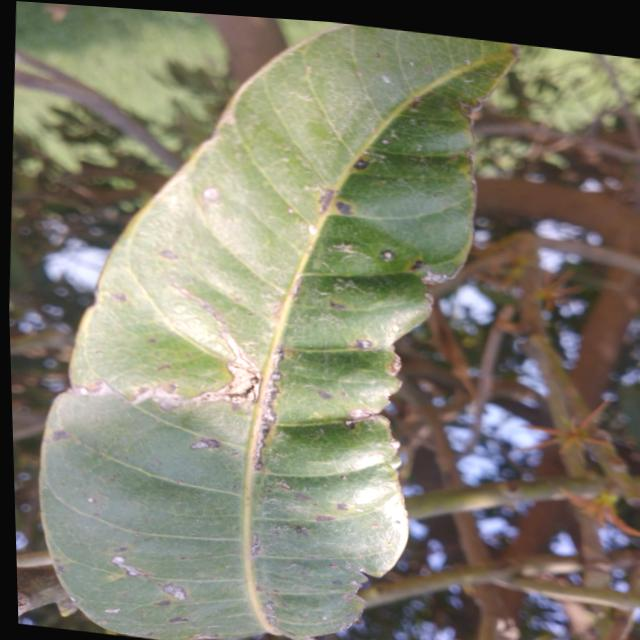Powdery Mildew: (132, 282, 284, 440), (253, 345, 284, 471), (109, 551, 142, 580), (226, 366, 255, 396), (159, 578, 189, 602), (313, 185, 337, 214), (332, 196, 354, 218), (201, 185, 221, 205), (158, 246, 179, 262), (189, 438, 219, 449), (292, 522, 311, 537), (250, 533, 261, 558), (51, 428, 69, 441), (314, 388, 331, 401), (108, 289, 126, 301), (353, 338, 372, 349), (314, 513, 334, 523), (379, 249, 393, 261), (353, 159, 368, 169), (104, 605, 120, 613), (168, 616, 188, 622), (335, 502, 347, 511), (86, 496, 95, 502)
